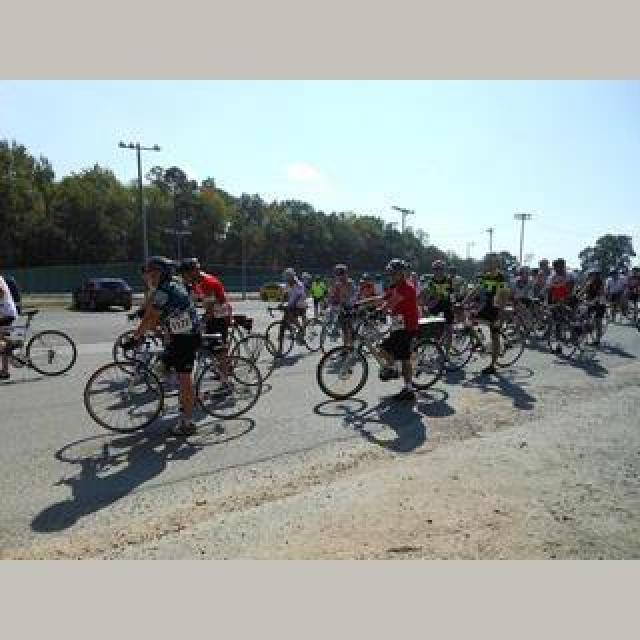Bus-Bike: (72, 276, 134, 312)
MC-Bike: (128, 256, 200, 434), (374, 264, 422, 398), (472, 258, 516, 374), (418, 258, 456, 368), (274, 268, 312, 356), (324, 264, 356, 348), (310, 276, 328, 318)
Person: (82, 326, 266, 432), (316, 306, 444, 400), (416, 298, 528, 380), (2, 312, 78, 380), (210, 318, 276, 386), (266, 302, 324, 356), (304, 302, 354, 354)
